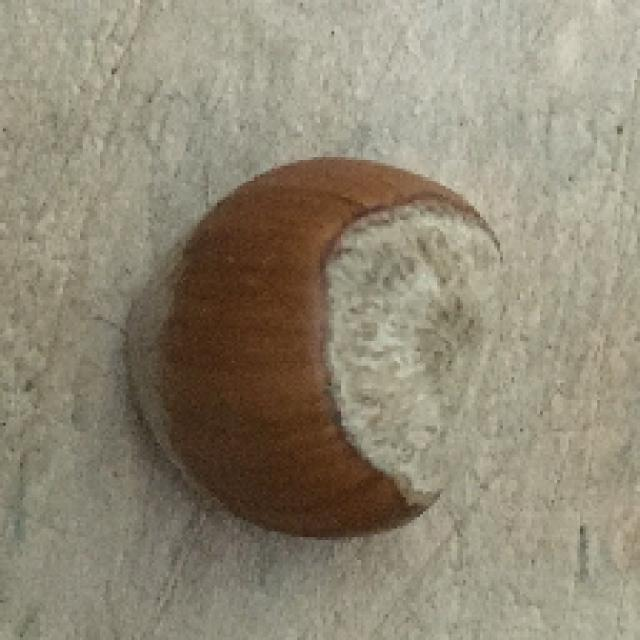QualityHazelnut: (131, 156, 506, 540)
